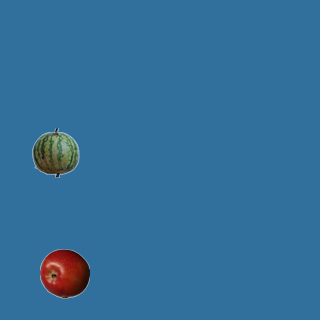Apple Braeburn: (39, 248, 89, 298)
Watermelon: (30, 127, 80, 177)
